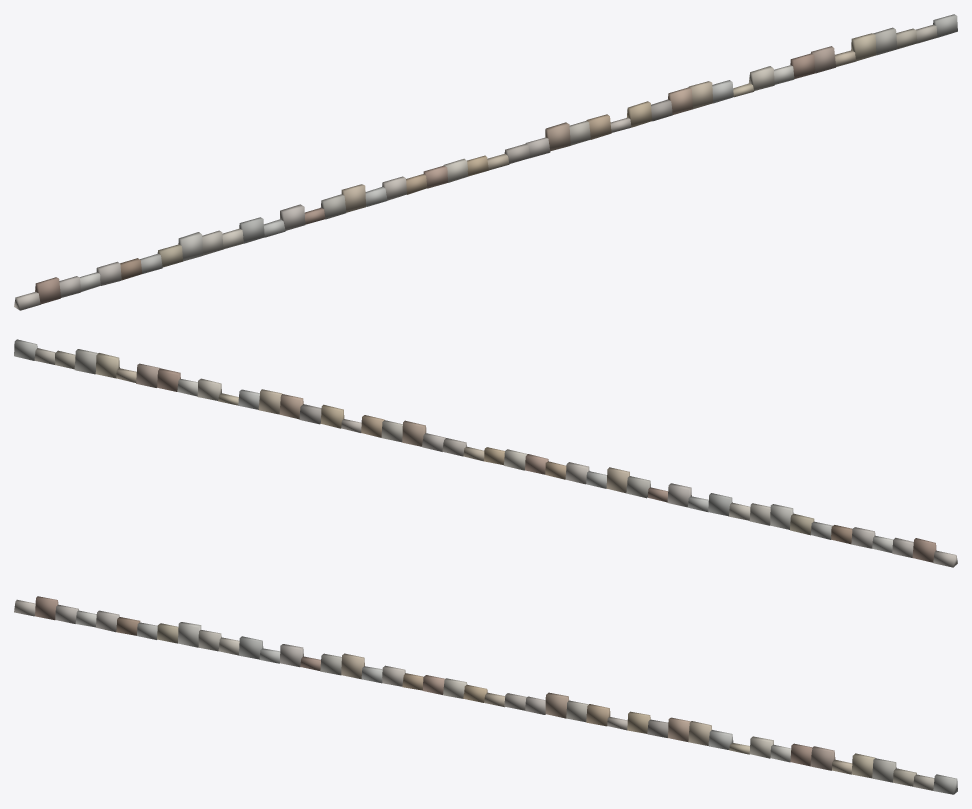
File: farm_12_4_far.glb
3 views of the same model, one above another, from view 1: azimuth 30°, elevation 25°; view 2: azimuth 150°, elevation 25°; view 3: azimuth 330°, elevation 25° (orthographic). The views are drawn at different scales.
Visible parts, largest first — view 1: geometry_0; view 2: geometry_0; view 3: geometry_0.
Part boxes in pixels (x1,y1,x2,y2): geometry_0: (14,14,957,310); geometry_0: (14,339,957,567); geometry_0: (14,596,957,794).
Size of the model in its own units: 73.32 by 2.47 by 5.32.
